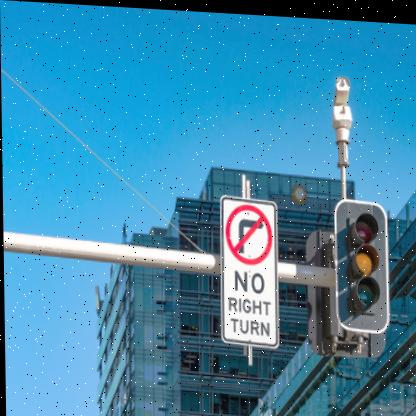No right turn: (222, 197, 274, 264)
